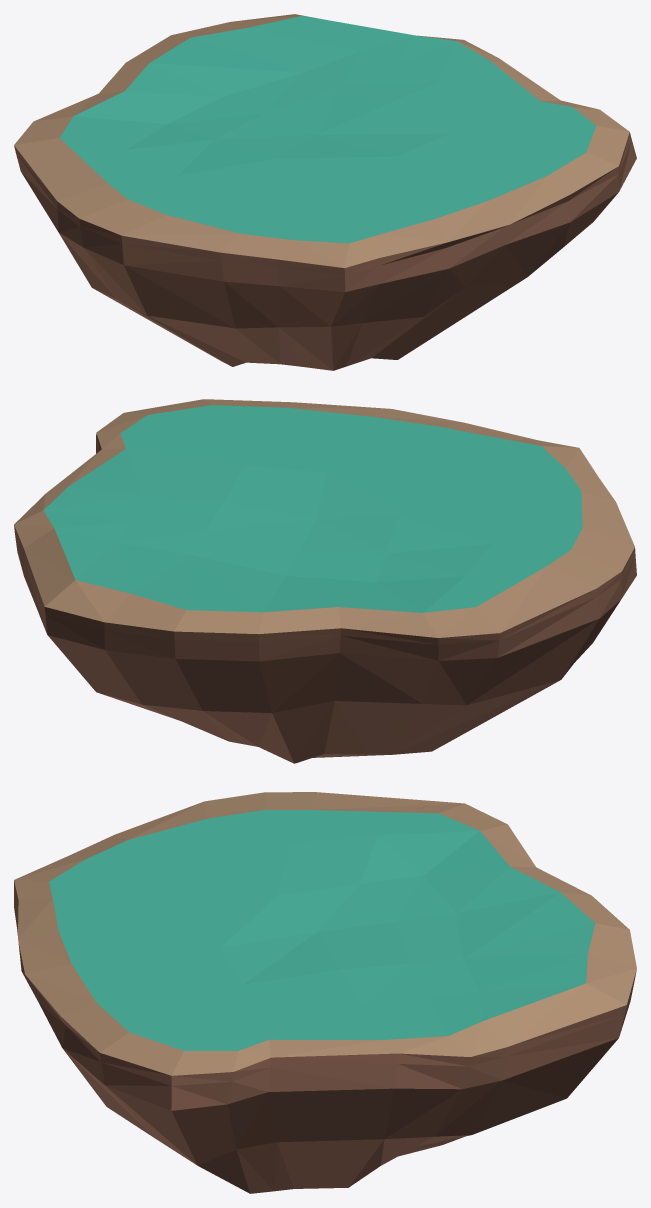
Rendered from cozy_lake_island_01.glb.
The picture shows the model from 3 angles, top to bottom: view 1: azimuth 30°, elevation 25°; view 2: azimuth 150°, elevation 25°; view 3: azimuth 270°, elevation 25°; orthographic projection. The views are drawn at different scales.
Parts seen in each view (by area): view 1: Island_01_Water_0, Island_01_Dirt_0, Island_01_Sand_0; view 2: Island_01_Water_0, Island_01_Dirt_0, Island_01_Sand_0; view 3: Island_01_Water_0, Island_01_Dirt_0, Island_01_Sand_0.
Part boxes in pixels (x1,y1,x2,y2): Island_01_Water_0: (60, 15, 596, 243); Island_01_Dirt_0: (14, 132, 636, 370); Island_01_Sand_0: (14, 14, 629, 268); Island_01_Water_0: (43, 405, 582, 612); Island_01_Dirt_0: (14, 433, 636, 763); Island_01_Sand_0: (14, 399, 634, 637); Island_01_Water_0: (49, 810, 595, 1050); Island_01_Dirt_0: (14, 881, 636, 1193); Island_01_Sand_0: (14, 792, 636, 1075).
Size of the model in its own units: 478 by 190 by 449.
